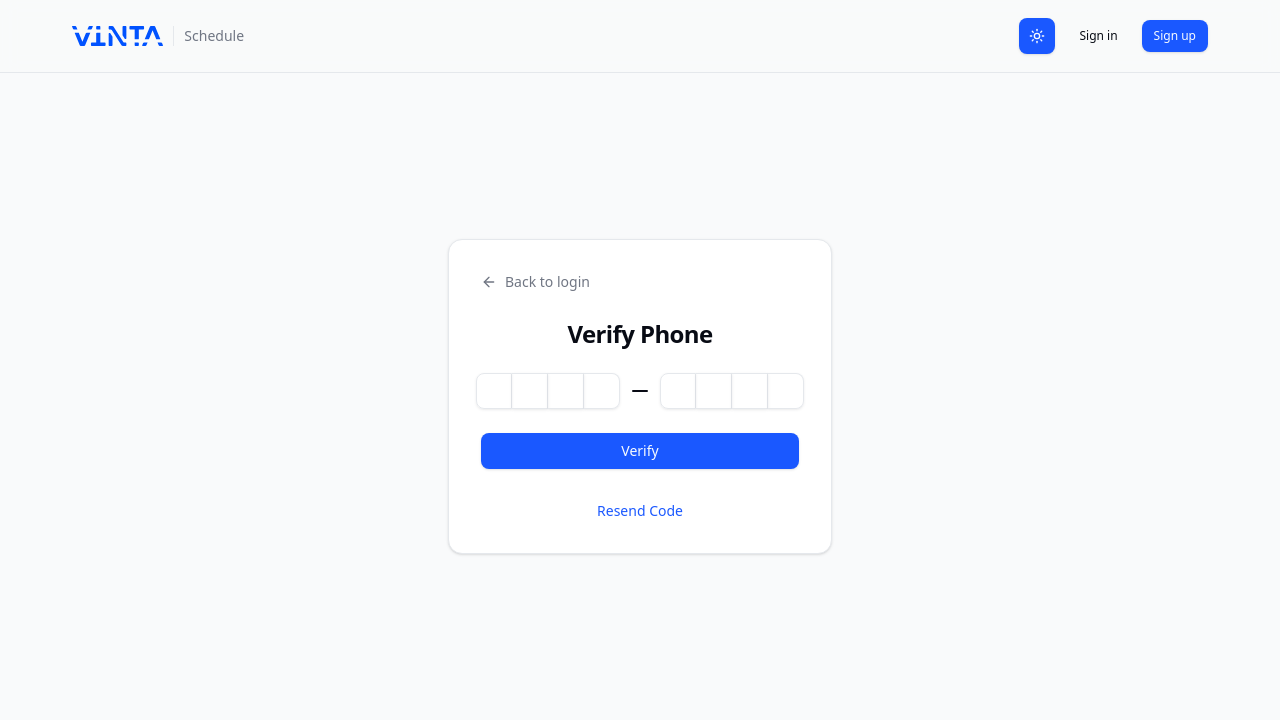
Test case: VerifyPhonePage › resend: retry-once guard — a consent_required retry failure again does not loop and ends in the error state
Click the button "Resend Code".
click(640, 510)  # box [597, 501, 683, 520]
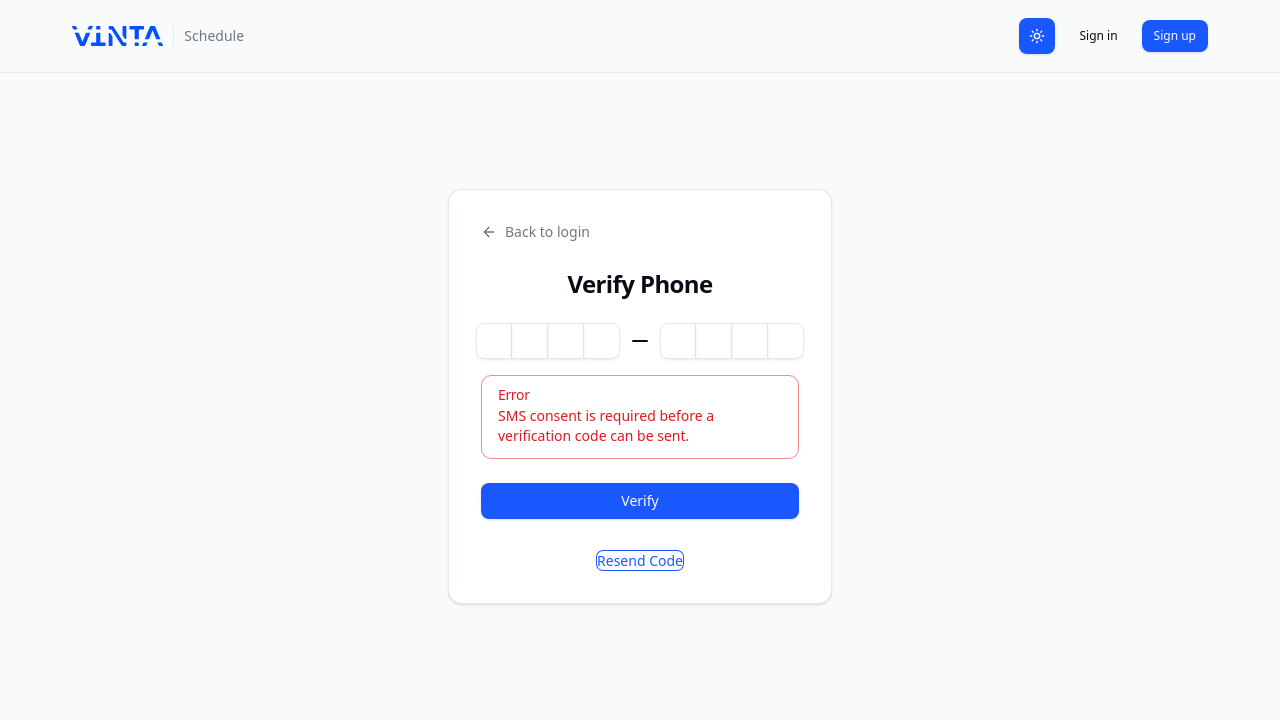
Expected: the text "SMS consent is required before a verification code can be sent." is shown, [498, 406, 714, 445]
